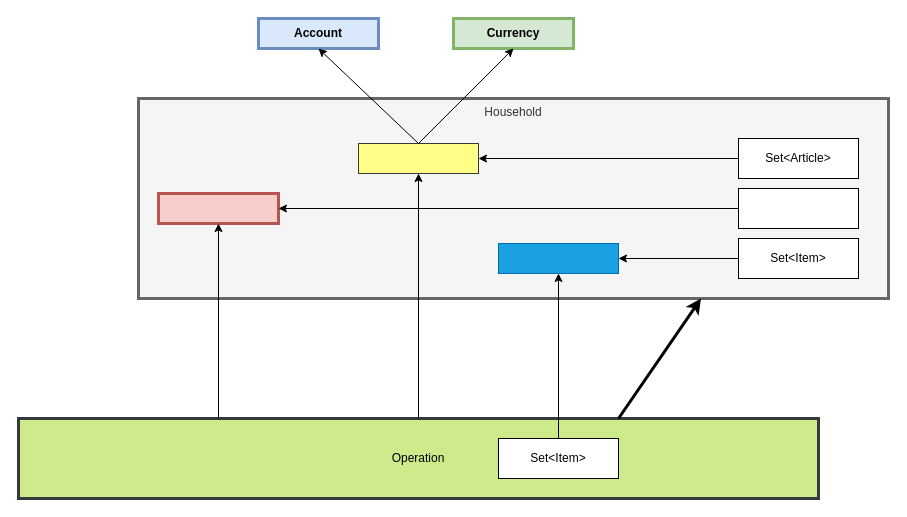
This 907x517 diagram has some shape labels left out. The shapes that lost their labels are listed below. From the top down, each one's centre as x and y in pixels, then its label:
At (x=418, y=158): "Article".
At (x=218, y=208): "PeriodMonth".
At (x=798, y=208): "Set<PeriodMonth>".
At (x=558, y=258): "Item".
